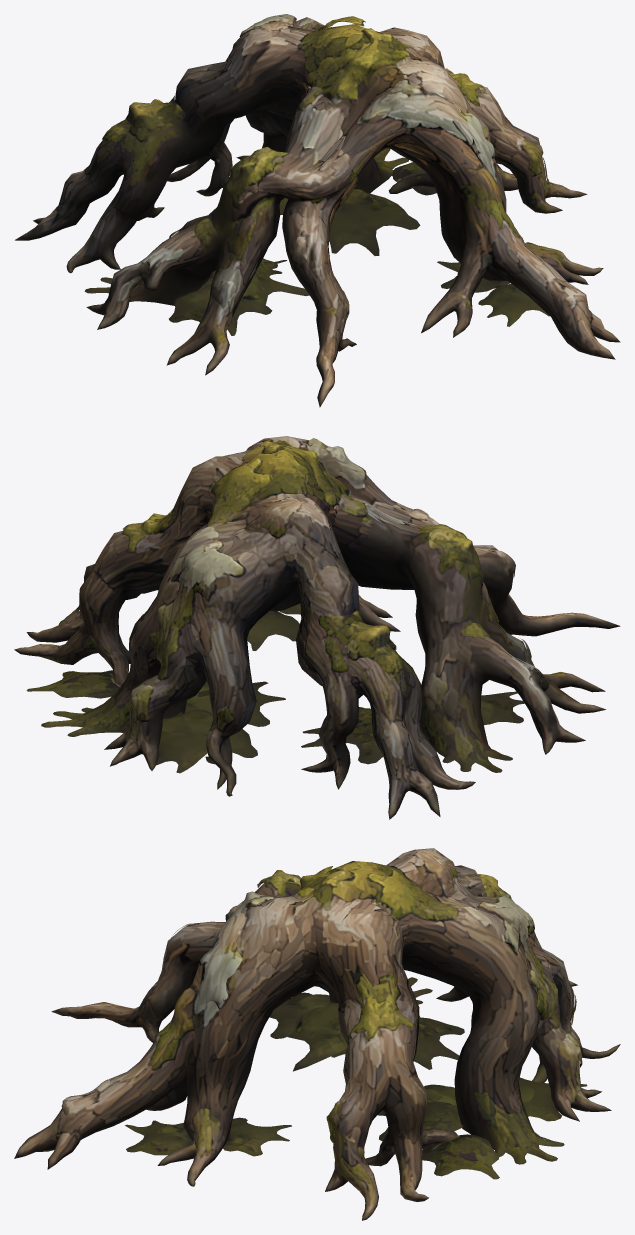
File: act1_kit_v1_willow_roots.glb
The picture shows the model from 3 angles, top to bottom: view 1: azimuth 30°, elevation 25°; view 2: azimuth 150°, elevation 25°; view 3: azimuth 270°, elevation 25°; orthographic projection. The views are drawn at different scales.
Parts seen in each view (by area): view 1: act1_kit_v1_willow_roots; view 2: act1_kit_v1_willow_roots; view 3: act1_kit_v1_willow_roots.
Boxes of the visible parts, left/top/right/bottom form: act1_kit_v1_willow_roots: left=15, top=14, right=620, bottom=407; act1_kit_v1_willow_roots: left=14, top=436, right=620, bottom=819; act1_kit_v1_willow_roots: left=14, top=848, right=620, bottom=1220.
Size of the model in its own units: 1 by 0.4382 by 0.9884.
Materials: 1 (1 with a texture image).
